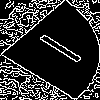I: (25, 25, 86, 66)
